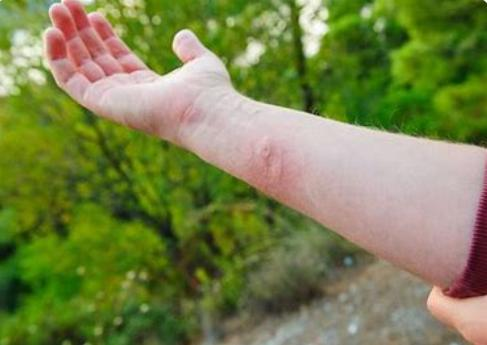Wasp: (252, 141, 286, 169)
